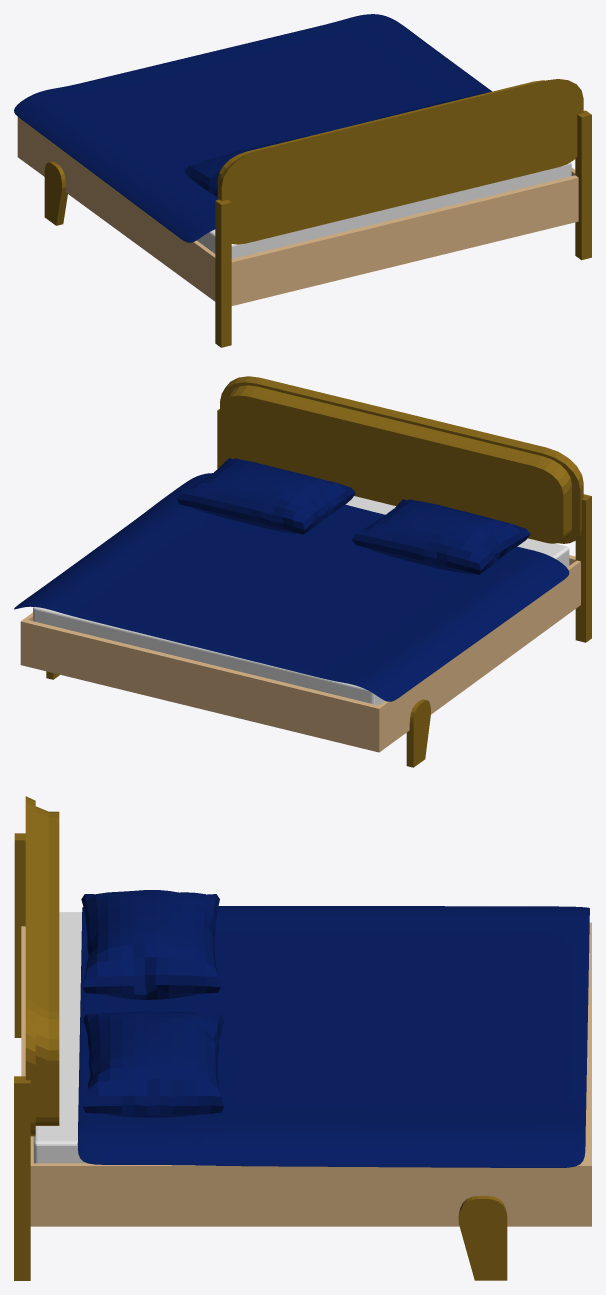
File: Bed_Mom.fbx
3 views of the same model, one above another, from view 1: azimuth 30°, elevation 25°; view 2: azimuth 150°, elevation 25°; view 3: azimuth 270°, elevation 25° (orthographic). The views are drawn at different scales.
Parts seen in each view (by area): view 1: Plane, Cube.001, Cube.005, Cube, Cube.002, Plane.002; view 2: Plane, Cube.001, Cube.005, Plane.001, Plane.002, Cube, Cube.002; view 3: Plane, Cube.005, Plane.002, Plane.001, Cube.001, Cube, Cube.002.
Part boxes in pixels (left/top/right/bottom): Plane: left=14, top=14, right=491, bottom=242; Cube.001: left=215, top=79, right=591, bottom=347; Cube.005: left=17, top=117, right=578, bottom=305; Cube: left=197, top=162, right=571, bottom=258; Cube.002: left=215, top=110, right=591, bottom=347; Plane.002: left=184, top=135, right=310, bottom=197; Plane: left=14, top=473, right=569, bottom=701; Cube.001: left=219, top=376, right=590, bottom=612; Cube.005: left=20, top=555, right=580, bottom=767; Plane.001: left=176, top=458, right=355, bottom=534; Plane.002: left=351, top=499, right=530, bottom=574; Cube: left=33, top=496, right=569, bottom=705; Cube.002: left=217, top=409, right=591, bottom=642; Plane: left=77, top=906, right=589, bottom=1167; Cube.005: left=21, top=922, right=591, bottom=1280; Plane.002: left=81, top=890, right=220, bottom=999; Plane.001: left=82, top=1011, right=224, bottom=1117; Cube.001: left=14, top=796, right=59, bottom=1280; Cube: left=33, top=912, right=86, bottom=1163; Cube.002: left=14, top=833, right=30, bottom=1280.
Bounding box in the file's own units: 733 × 336 × 689.
